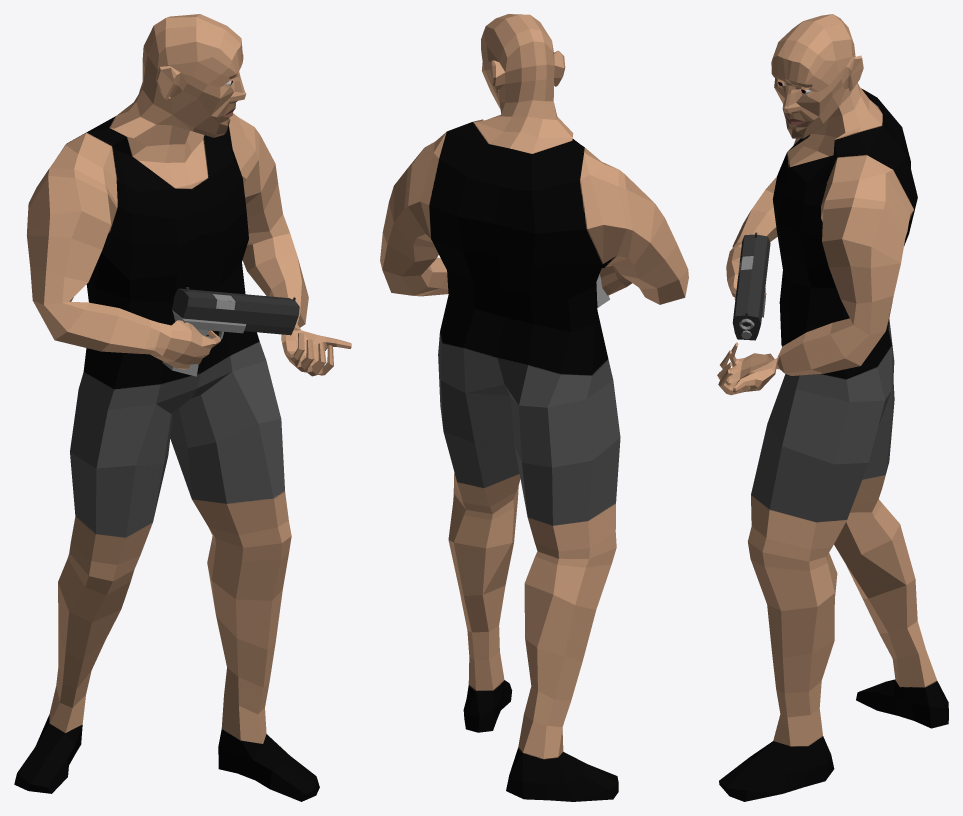
File: PlayerIdle(137).obj
The picture shows the model from 3 angles, left to right: view 1: azimuth 30°, elevation 25°; view 2: azimuth 150°, elevation 25°; view 3: azimuth 270°, elevation 25°; orthographic projection. The views are drawn at different scales.
Visible parts, largest first — view 1: Plane002, Box003; view 2: Plane002; view 3: Plane002, Box003.
Part boxes in pixels (left/top/right/bottom): Plane002: left=14, top=14, right=351, bottom=801; Box003: left=162, top=287, right=299, bottom=376; Plane002: left=380, top=14, right=688, bottom=801; Plane002: left=717, top=14, right=948, bottom=801; Box003: left=732, top=232, right=770, bottom=340.
Bounding box in the file's own units: 700 × 1792 × 509.
